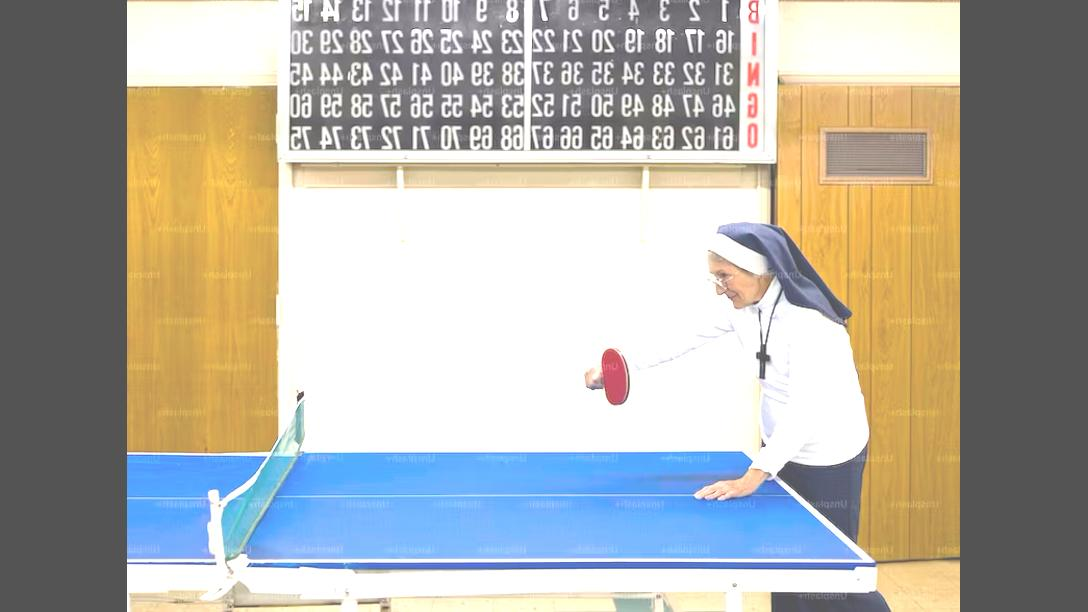Table-Tennis-Ball: (522, 350, 534, 364)
